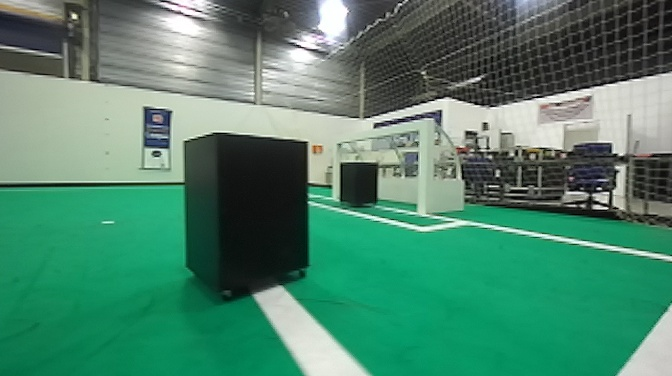goalpost: (416, 120, 431, 220), (327, 135, 341, 204)
